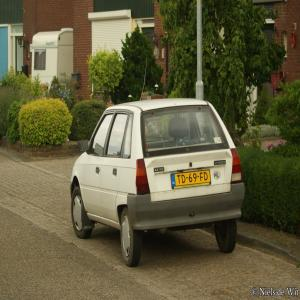Vehicle-registration-plate: (172, 174, 212, 191)
